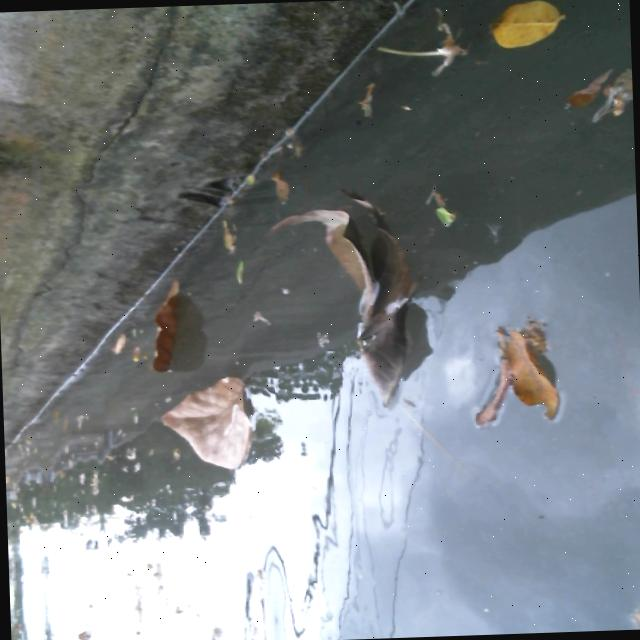Big-leaf: (270, 196, 425, 406), (460, 316, 573, 427), (157, 373, 259, 464), (139, 271, 192, 377)
Small-leaf: (546, 65, 634, 136), (490, 0, 575, 49), (416, 180, 465, 223), (347, 77, 393, 119), (95, 312, 133, 361), (210, 218, 248, 256), (265, 162, 297, 196), (225, 254, 255, 289)
